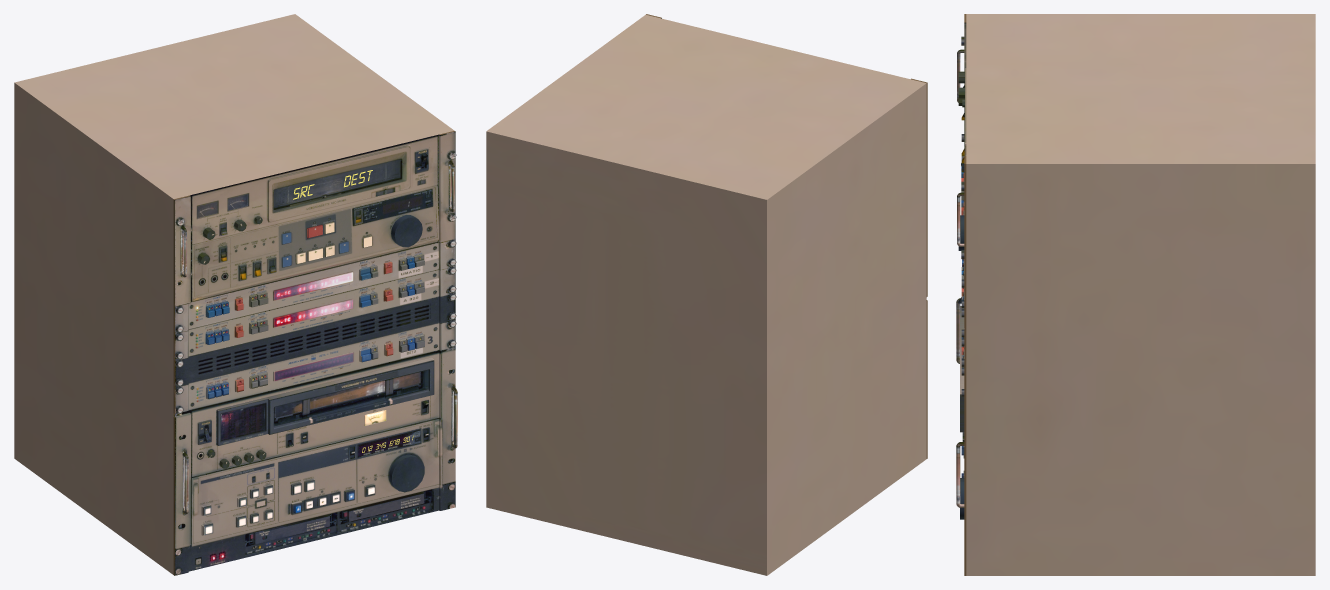
The model's file is server.glb.
The picture shows the model from 3 angles, left to right: view 1: azimuth 30°, elevation 25°; view 2: azimuth 150°, elevation 25°; view 3: azimuth 270°, elevation 25°; orthographic projection. The views are drawn at different scales.
Visible parts, largest first — view 1: audio-panel; view 2: audio-panel; view 3: audio-panel.
Part boxes in pixels (x1,y1,x2,y2): audio-panel: (14, 14, 457, 575); audio-panel: (486, 14, 927, 575); audio-panel: (956, 14, 1315, 575).
Bounding box in the file's own units: 5.57 × 7.12 × 5.63.
Materials: 6 (5 with a texture image).
